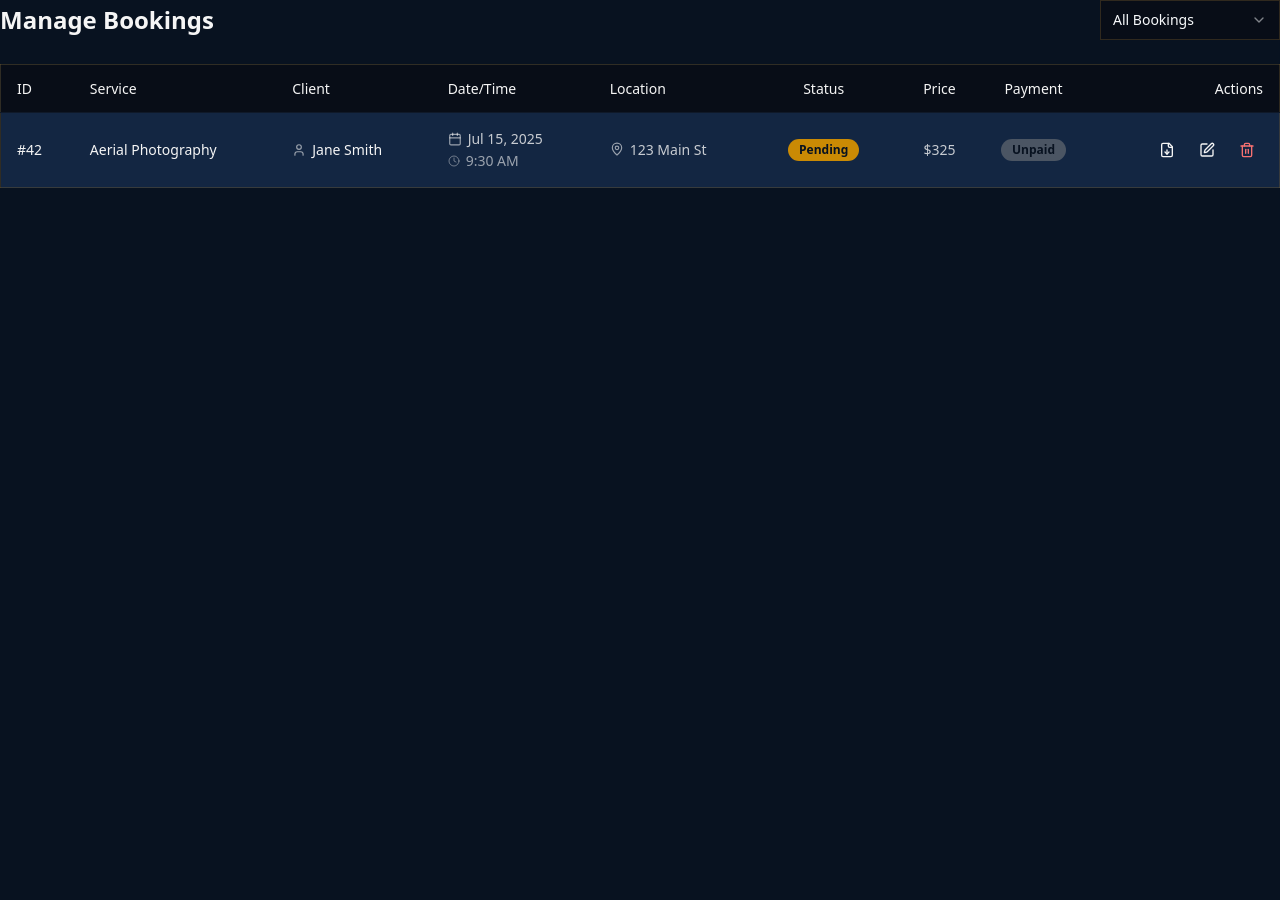
Test: BookingManager – smoke render › shows the edit dialog with datetime-local input pre-filled from booking scheduledDate
The width and height of the screenshot is (1280, 900).
Step 1. Click the button named "edit booking" → (1207, 150), box [1191,134,1223,166]
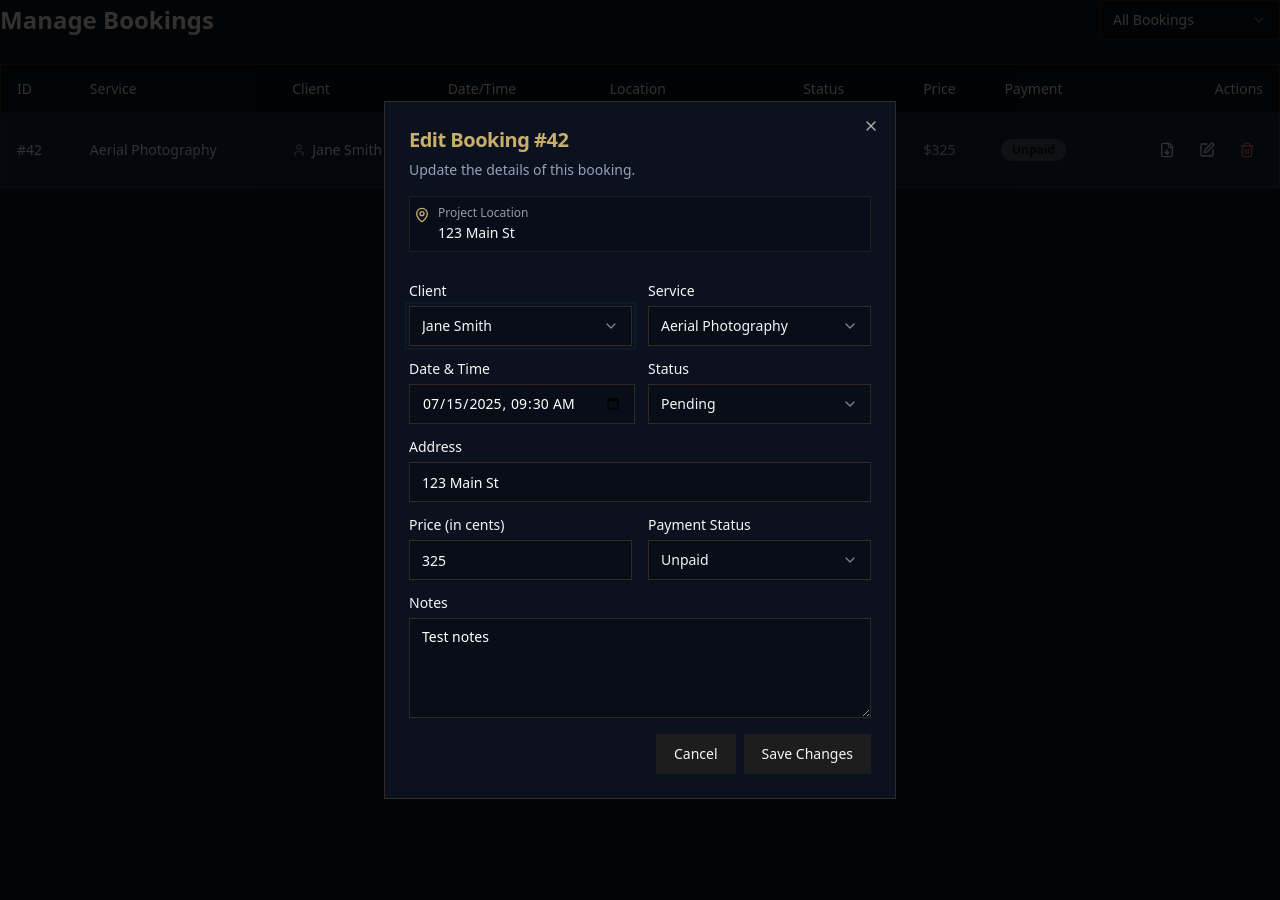
Check: the field labelled "Date & Time" is shown, box [409,384,635,424]
